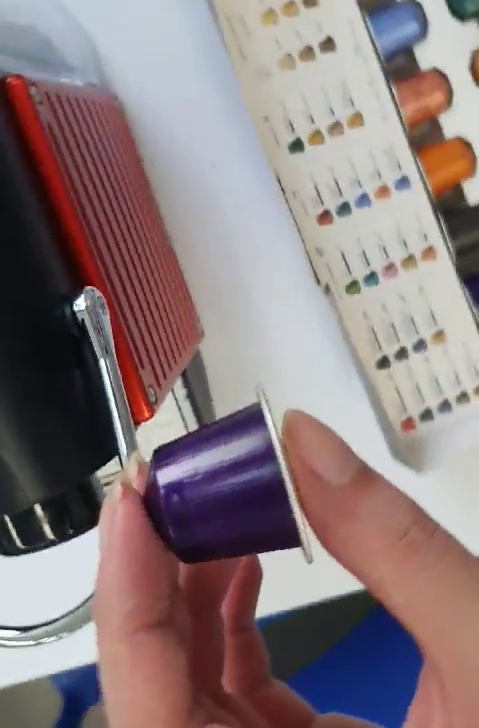capsule_11: (135, 388, 320, 574)
